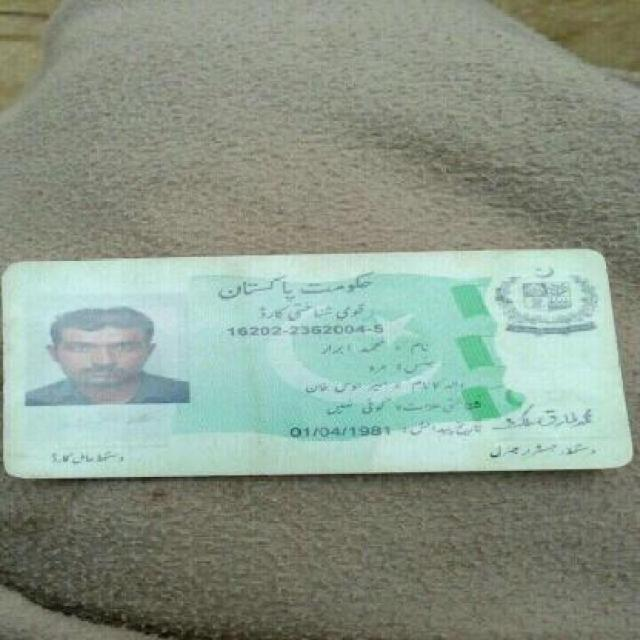Front: (4, 252, 634, 483)
